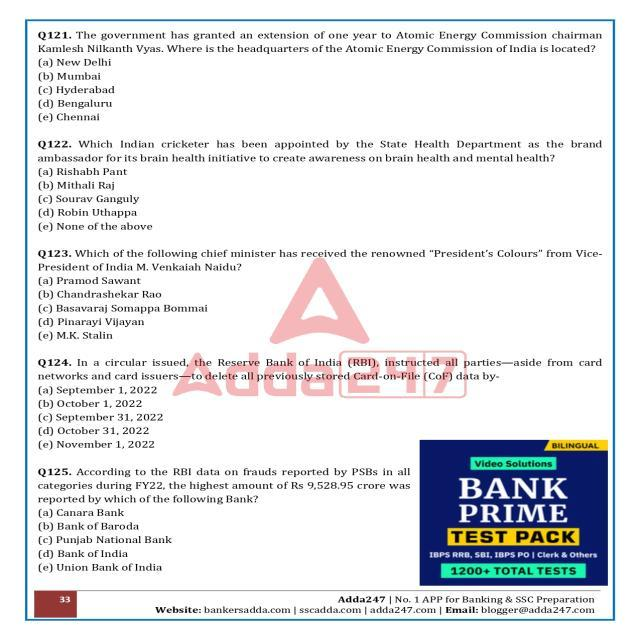Answer_Block: (29, 506, 616, 582), (29, 55, 617, 126), (26, 164, 614, 234), (22, 382, 617, 448), (22, 274, 617, 338)
Question_Answer_Block: (28, 468, 618, 576), (28, 27, 618, 124), (30, 139, 616, 234), (22, 247, 617, 340), (26, 360, 614, 448)
Question_Block: (25, 470, 618, 506), (25, 28, 616, 57), (29, 246, 617, 274), (24, 136, 617, 163), (29, 356, 613, 381)
Question_Paper_Area: (28, 21, 616, 574)
